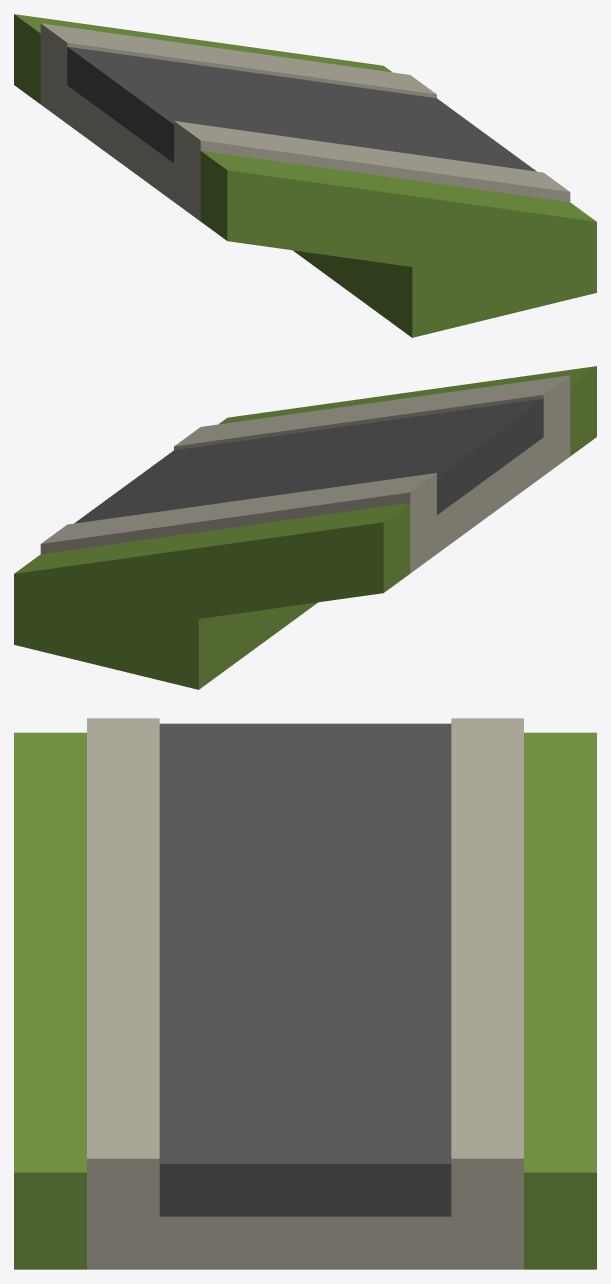
Rendered from roadTile_165.obj.
3 views of the same model, one above another, from view 1: azimuth 30°, elevation 25°; view 2: azimuth 150°, elevation 25°; view 3: azimuth 270°, elevation 25° (orthographic). The views are drawn at different scales.
Visible parts, largest first — view 1: Mesh1_Group1_Model.124; view 2: Mesh1_Group1_Model.124; view 3: Mesh1_Group1_Model.124.
Boxes of the visible parts, left/top/right/bottom form: Mesh1_Group1_Model.124: left=14, top=14, right=596, bottom=337; Mesh1_Group1_Model.124: left=14, top=366, right=596, bottom=689; Mesh1_Group1_Model.124: left=14, top=718, right=596, bottom=1269.
Bounding box in the file's own units: 3 × 1.73 × 3.
